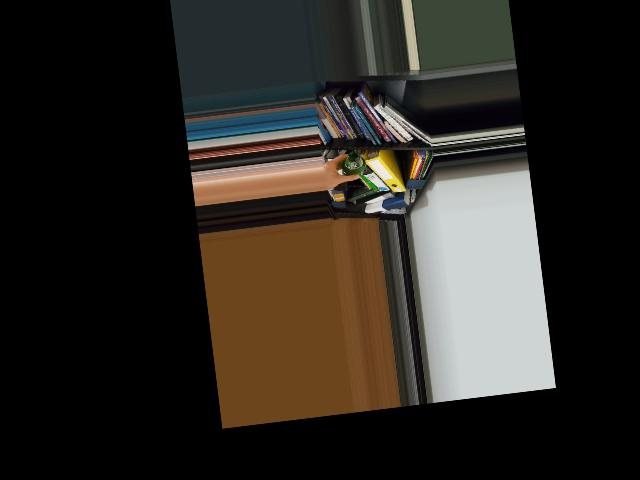beer: (341, 150, 367, 178)
